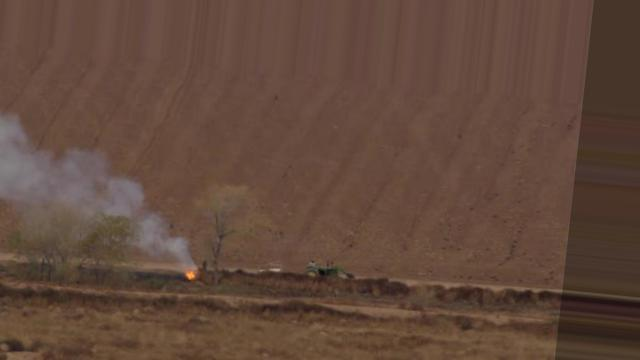fire: (177, 259, 203, 289)
